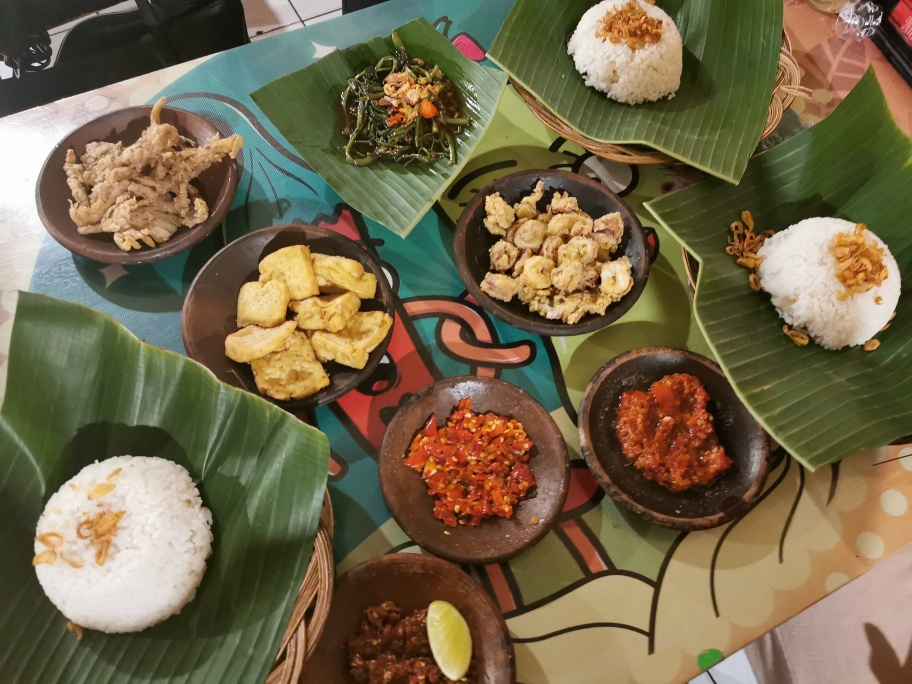nasi putih: (28, 449, 215, 641), (752, 213, 900, 352), (568, 2, 683, 100)
